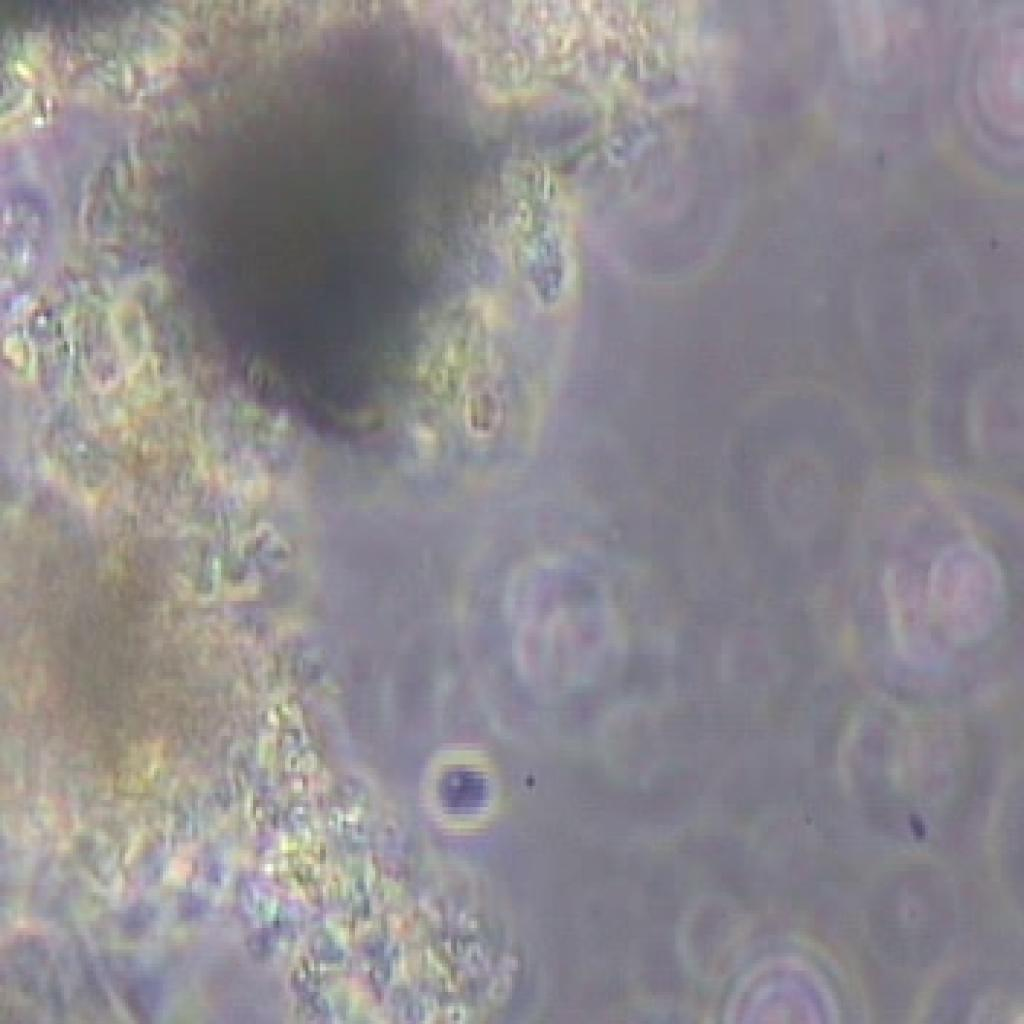Flagellates: (416, 743, 524, 832)
